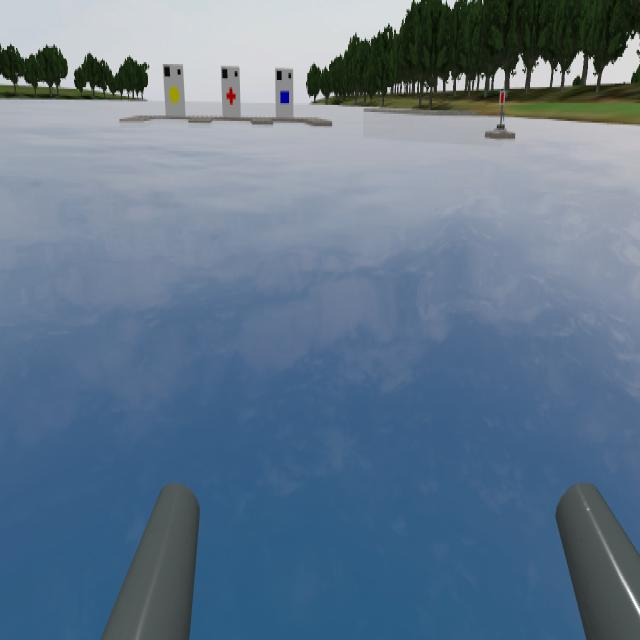red_pole: (498, 86, 507, 116)
